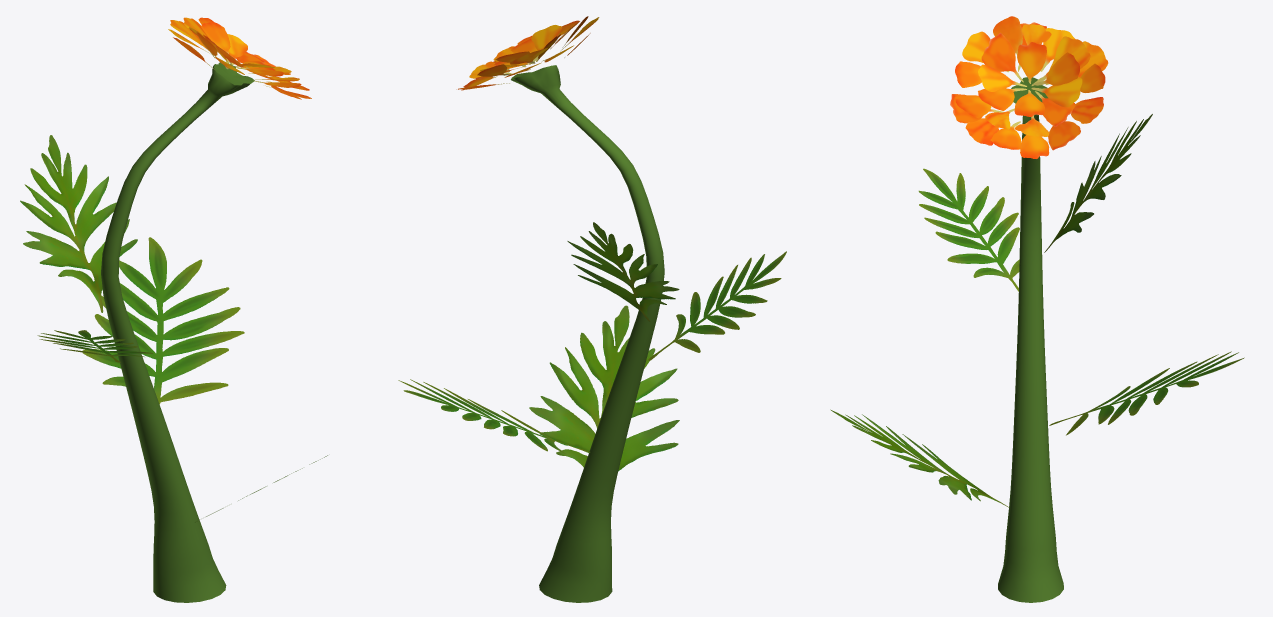
The model's file is Marigold.fbx.
3 views of the same model, side by side, from view 1: azimuth 30°, elevation 25°; view 2: azimuth 150°, elevation 25°; view 3: azimuth 270°, elevation 25° (orthographic).
Visible parts, largest first — view 1: Cylinder001, Plane040, Plane010, Plane001, Plane043; view 2: Cylinder001, Plane041, Plane001, Plane010, Plane040; view 3: Cylinder001, Plane001, Plane040, Plane041, Plane010, Plane009, Plane043, Plane007, Plane008, Plane038, Plane036, Plane006 (+7 smaller).
Boxes of the visible parts, <box> form: Cylinder001: <box>101,62,254,602</box>; Plane040: <box>82,237,244,404</box>; Plane010: <box>20,135,137,312</box>; Plane001: <box>37,330,152,362</box>; Plane043: <box>201,21,230,62</box>; Cylinder001: <box>511,65,664,602</box>; Plane041: <box>529,305,679,470</box>; Plane001: <box>648,251,786,360</box>; Plane010: <box>567,222,679,321</box>; Plane040: <box>398,379,589,453</box>; Cylinder001: <box>998,77,1063,602</box>; Plane001: <box>918,168,1019,291</box>; Plane040: <box>1049,351,1244,435</box>; Plane041: <box>830,409,1009,507</box>; Plane010: <box>1044,114,1152,252</box>; Plane009: <box>981,33,1023,82</box>; Plane043: <box>1032,52,1079,85</box>; Plane007: <box>1017,42,1046,83</box>; Plane008: <box>1031,77,1082,107</box>; Plane038: <box>1031,36,1090,85</box>; Plane036: <box>978,64,1026,91</box>; Plane006: <box>993,16,1022,57</box>.
Size of the model in its own units: 29.39 by 54.45 by 37.41.
